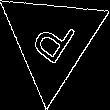P_SW: (25, 9, 79, 72)
